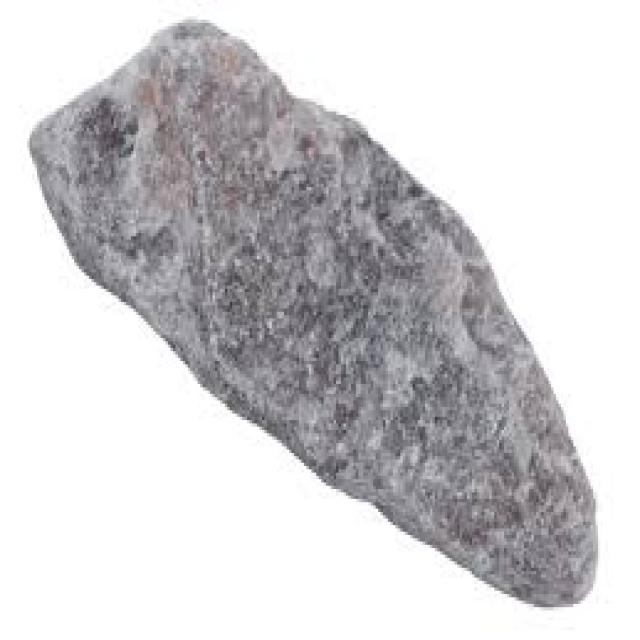Metamorphic: (22, 6, 628, 614)
